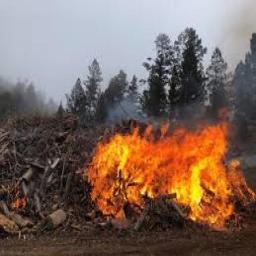Medium fire: (94, 118, 231, 226)
